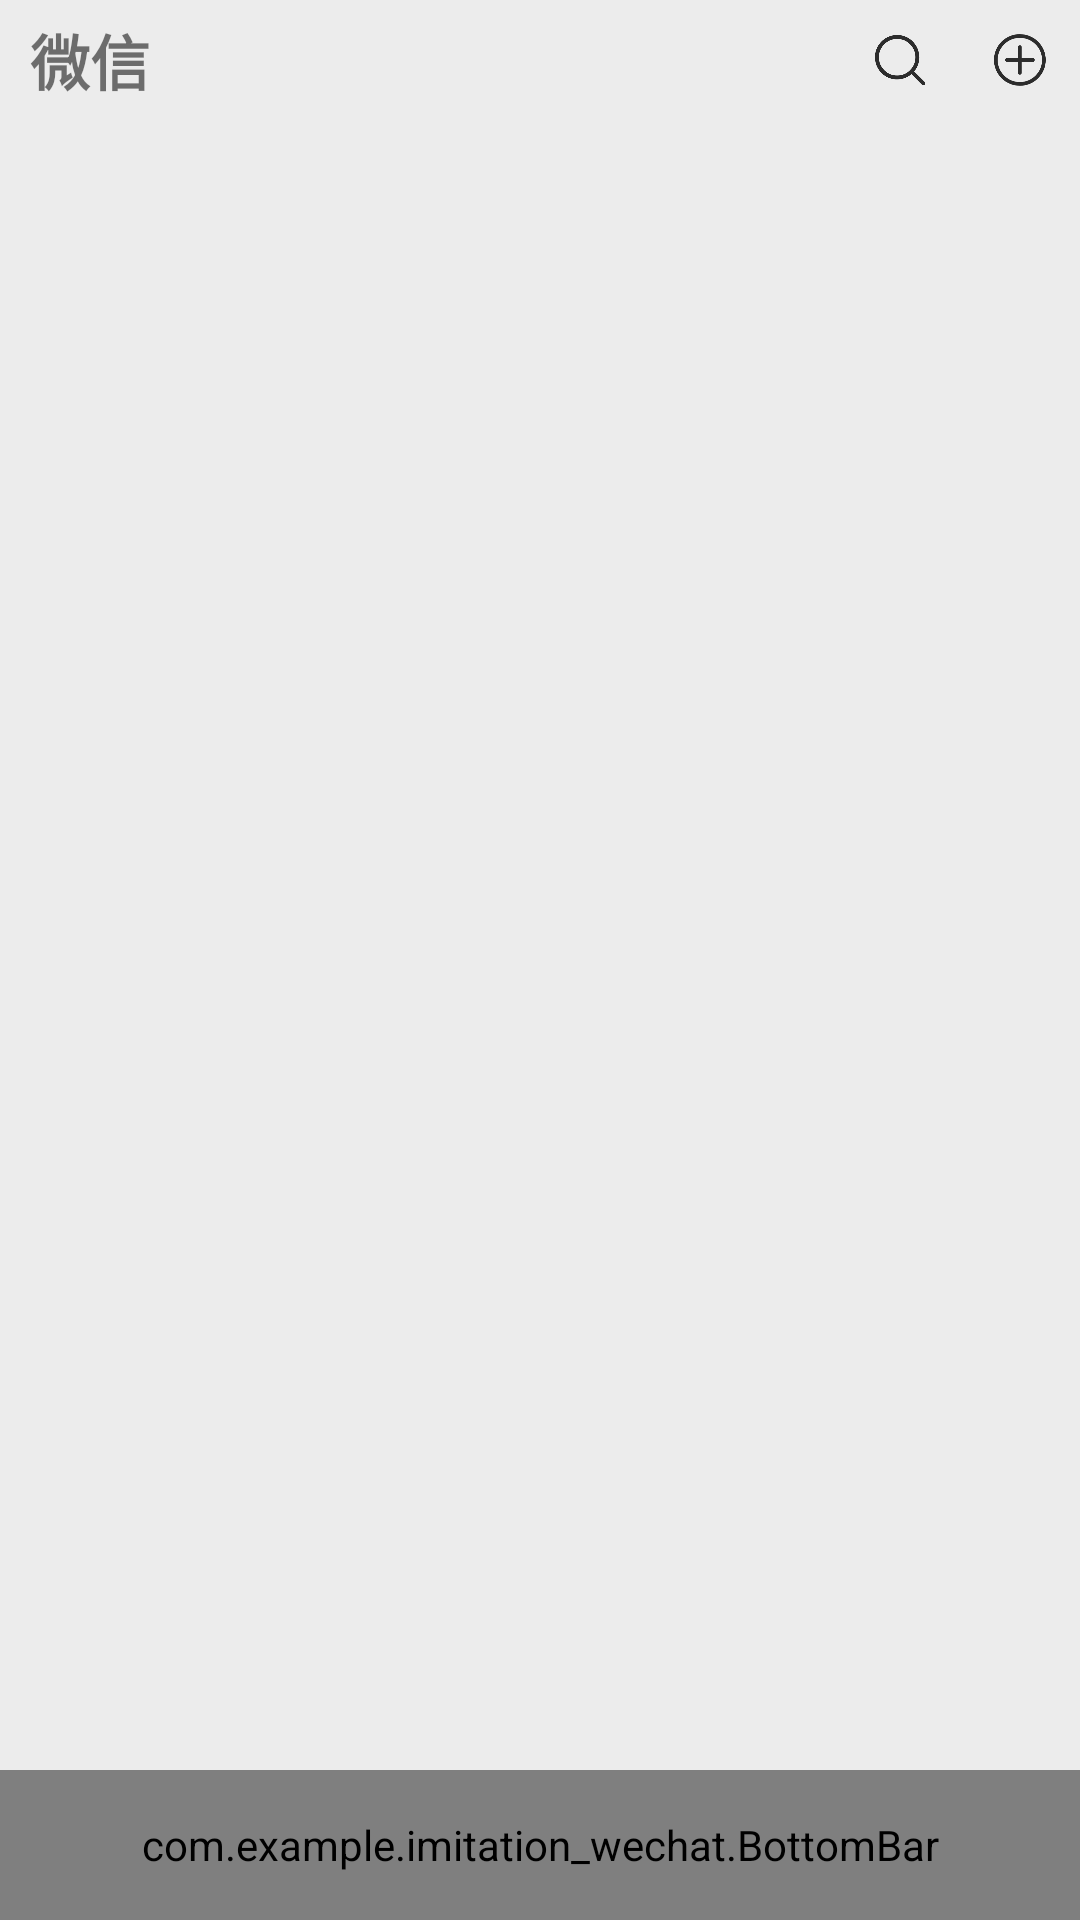

Screen size 1080px×1920px. Icon name, then its center in pixels as point (x, y):
add: point (1020, 60)
search: point (900, 60)
